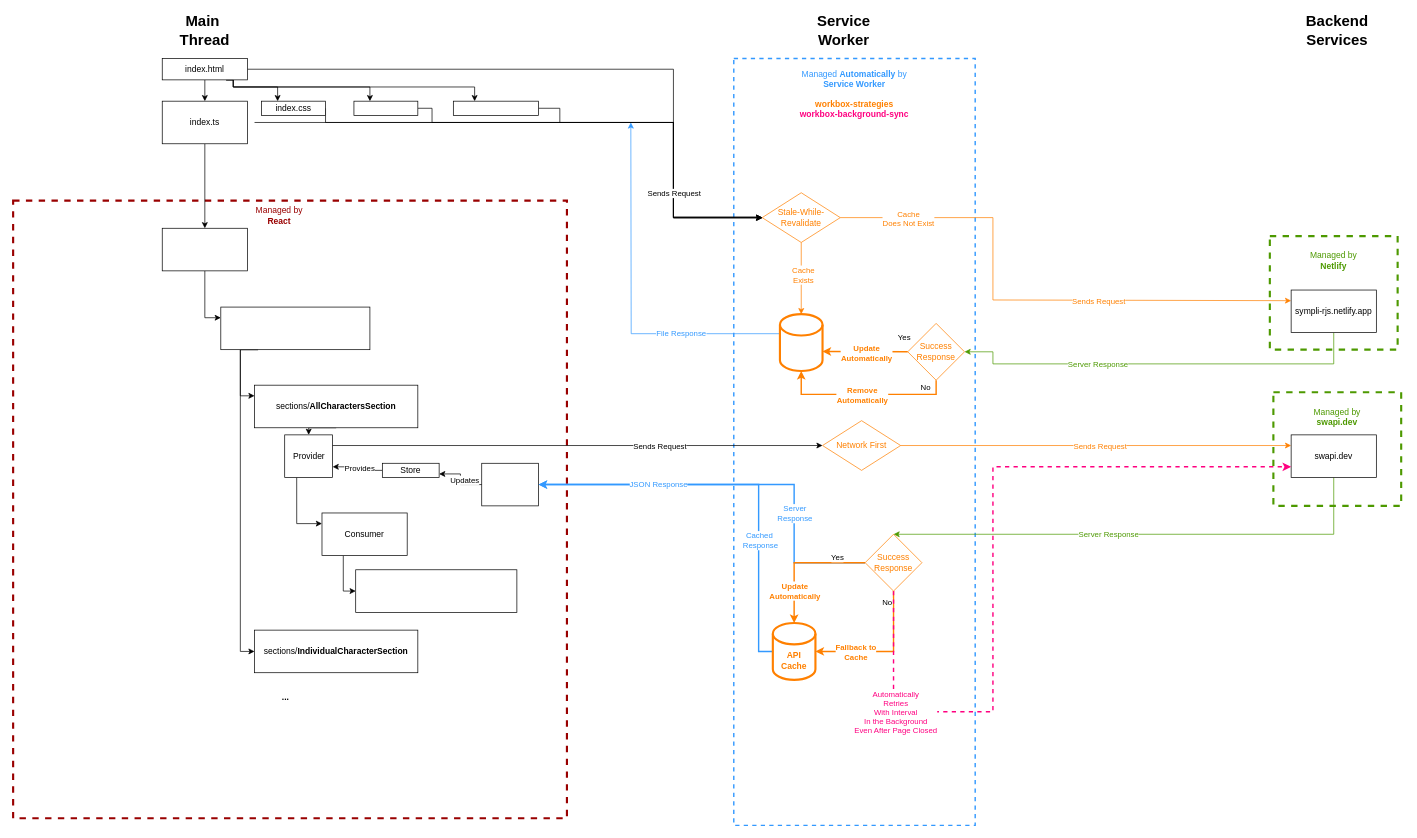
The diagram is 1417 pixels wide and 838 high, and some of its shapes have lost their labels. The shapes that lost their labels are listed below. From the top down, each one's box as (x1, y1, x2, y2) in pixels, then its label:
(353, 100, 418, 115): favicon.ico
(453, 100, 539, 115): xxx.chuck.js
(162, 228, 247, 271): App.tsx
(220, 306, 370, 350): pages/ Characters.tsx
(779, 313, 823, 372): File Cache
(481, 463, 539, 506): utils/Mapper
(355, 569, 517, 612): components/ ApplicationSummary
